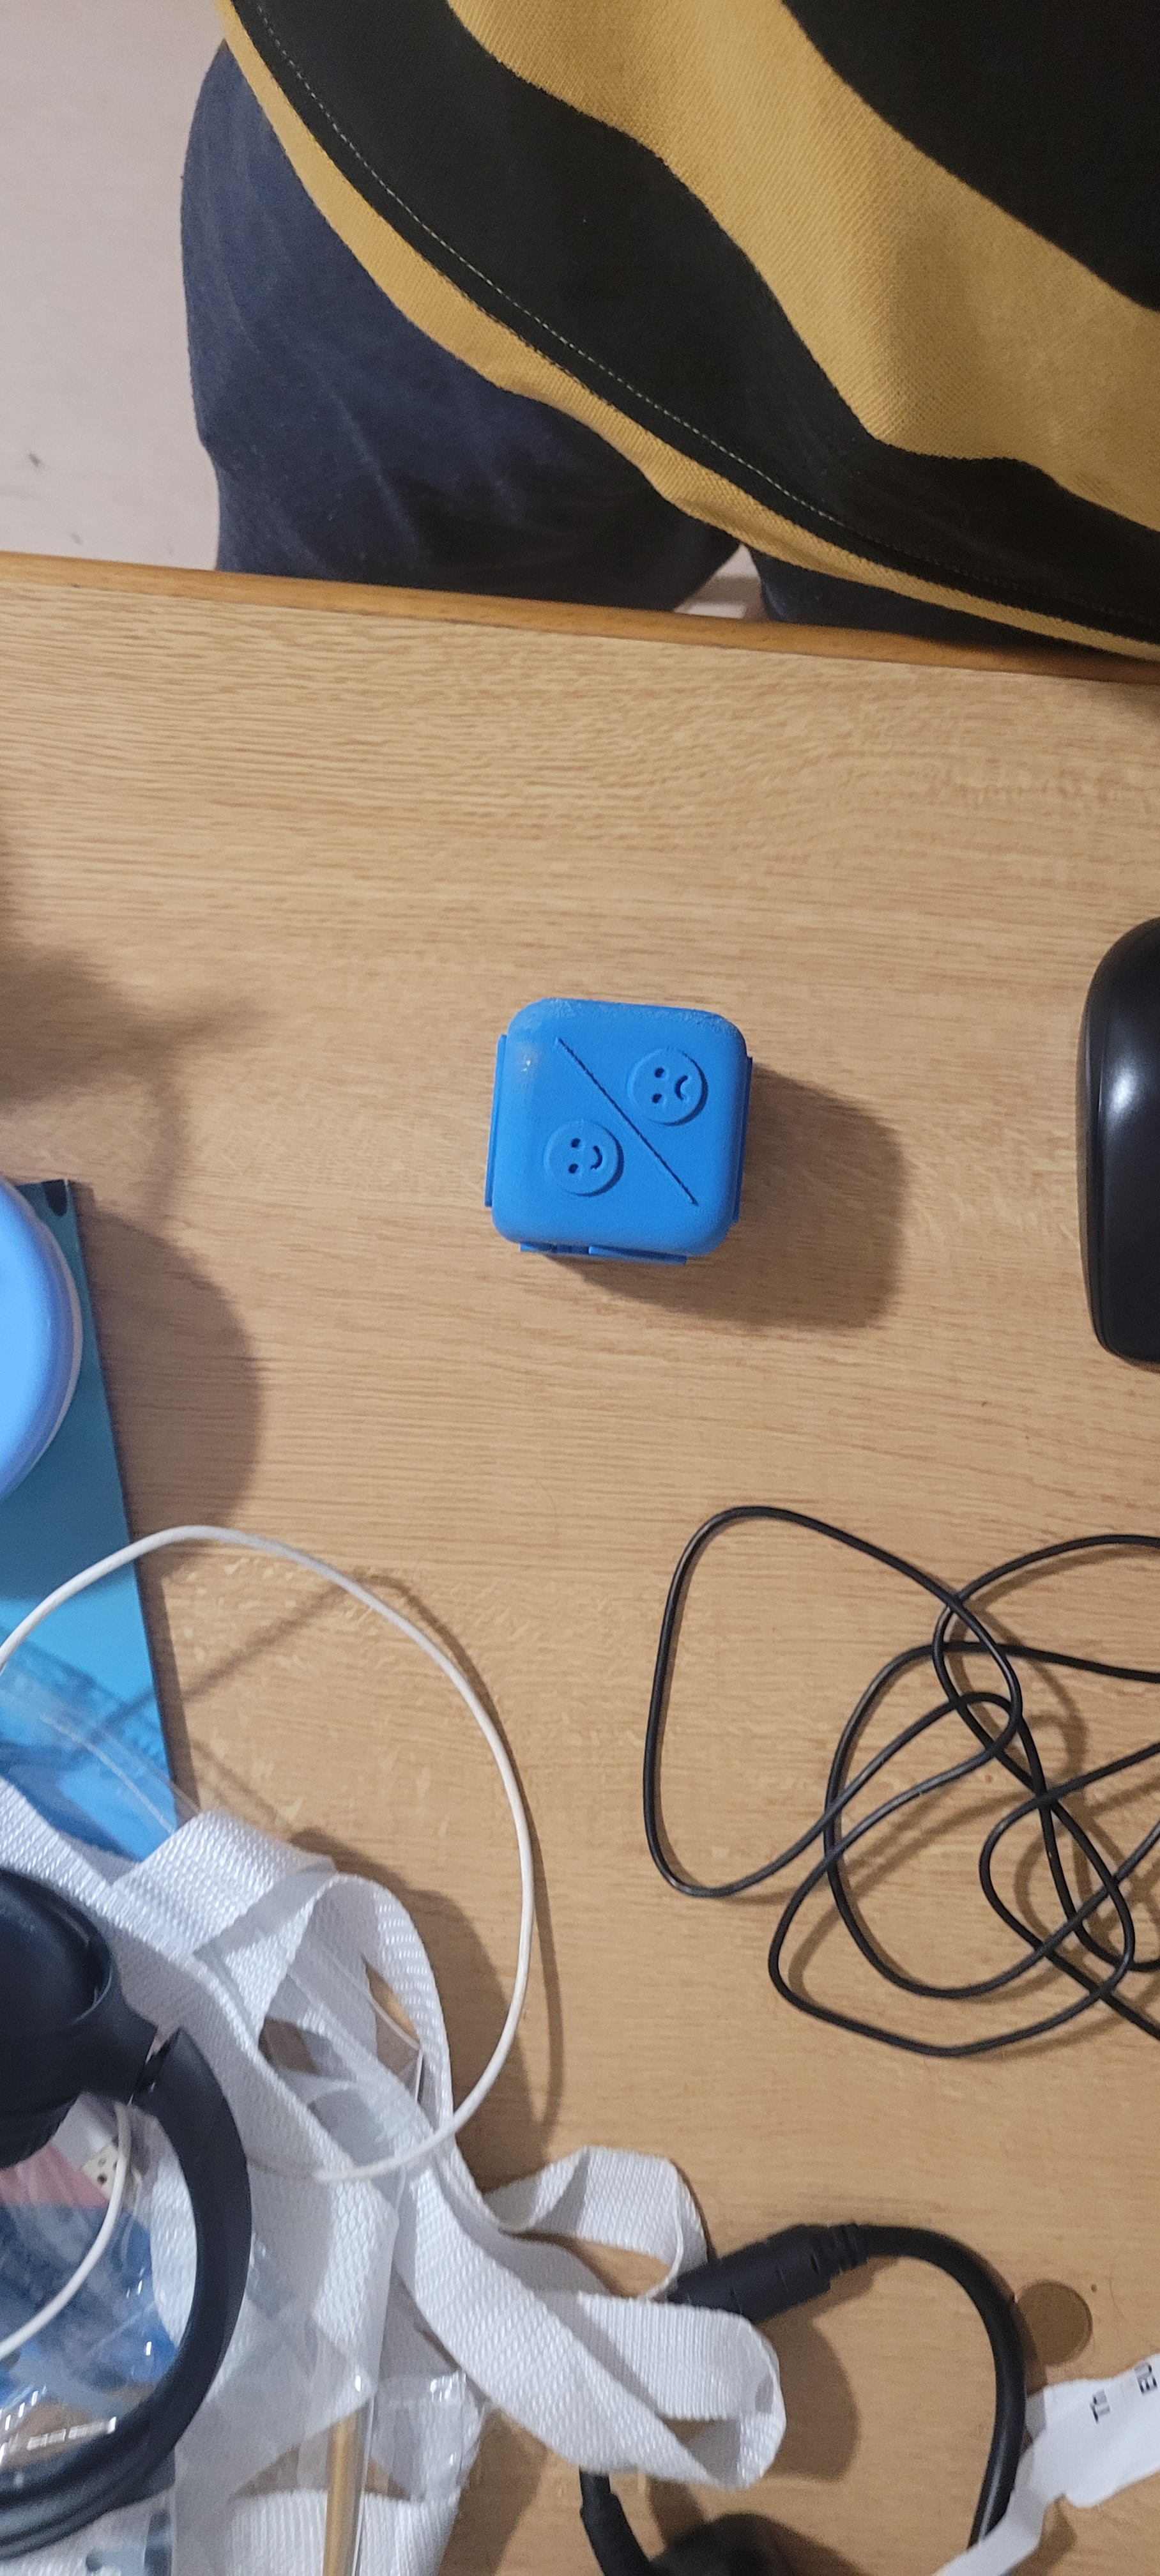Like/Dislike: (509, 984, 774, 1275)
